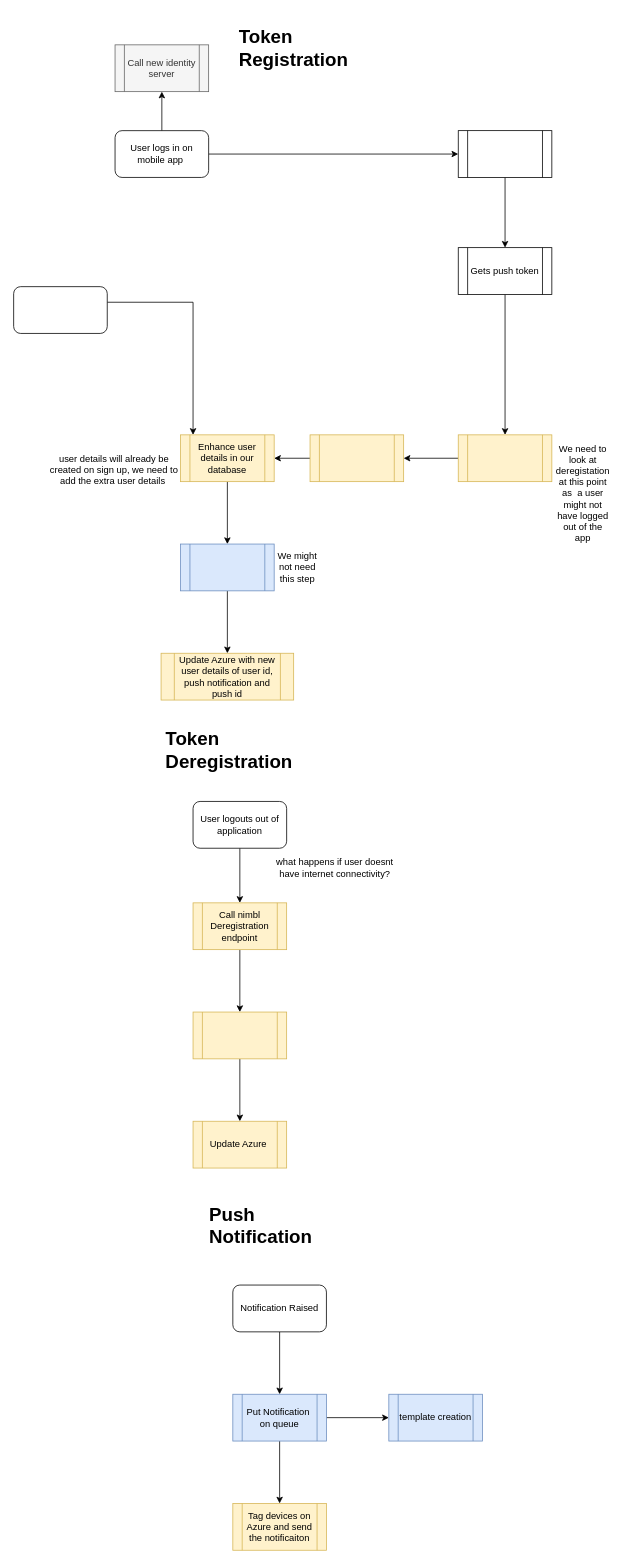
Some shapes in this 623 by 1564 pixel diagram are drawn without their labels. Here are the shapes that lost their labels. From the top down, the centre of each, then its label:
At (x=504, y=153): "Calls Google".
At (x=60, y=309): "sign up will create user details".
At (x=356, y=458): "create a bus message".
At (x=504, y=458): "Call nimbl registration endpoint".
At (x=227, y=567): "Create event for user registration".
At (x=239, y=1035): "Put the deregistration event on a queue".
